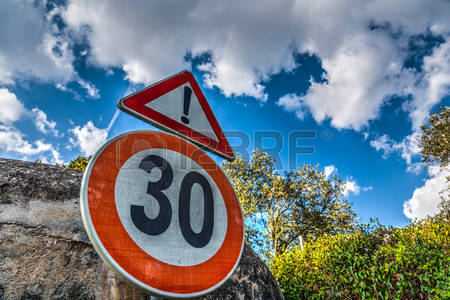Speed_limit_30km: (80, 130, 245, 298)
